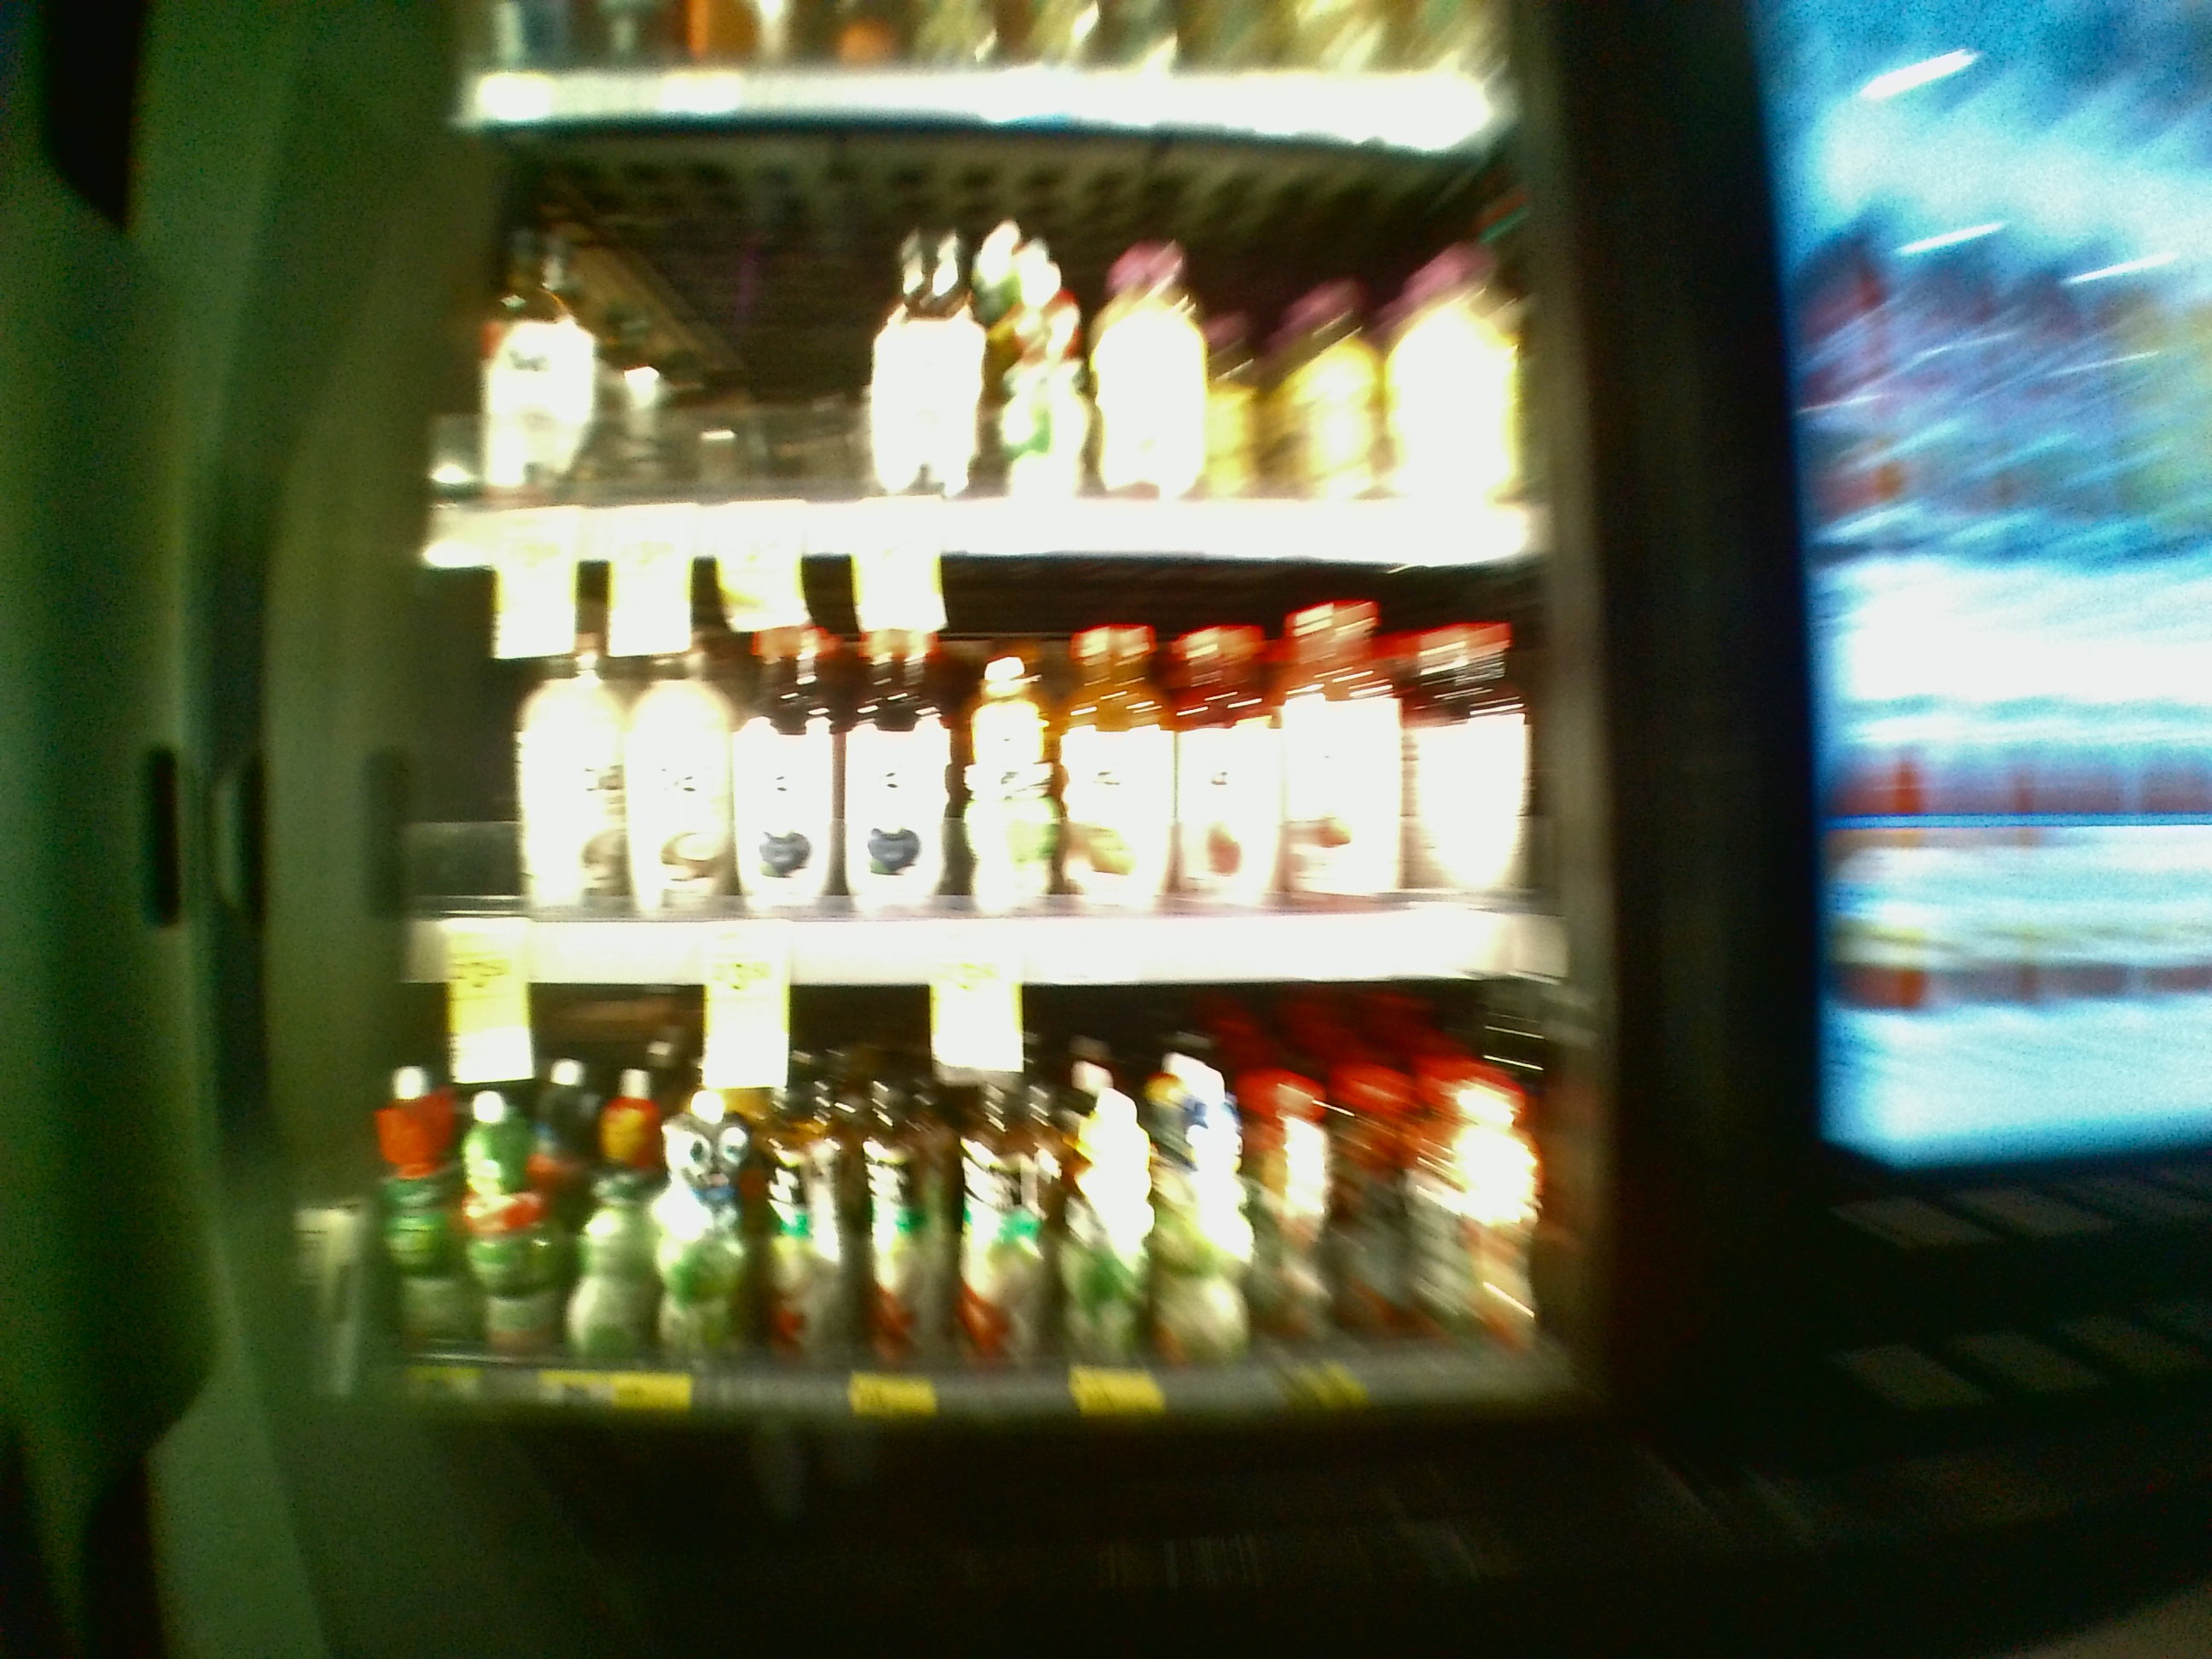shelf: (387, 1000, 1566, 1453), (416, 124, 1538, 568), (399, 575, 1564, 988)
